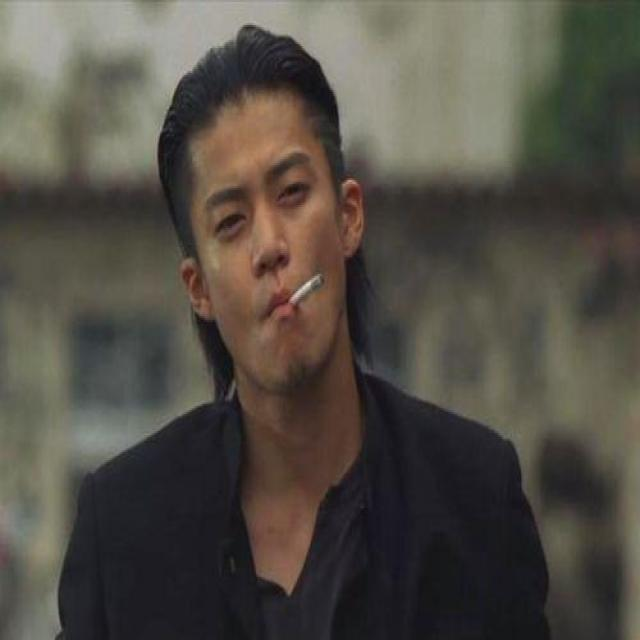cigarette: (276, 274, 344, 328)
